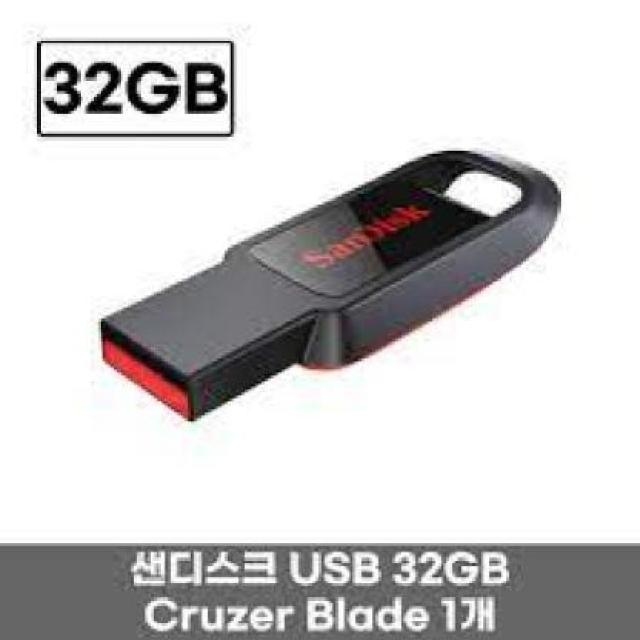Flashdisk: (94, 144, 564, 424)
